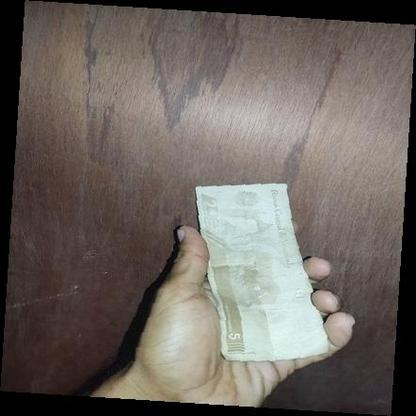five-back-vef: (194, 183, 330, 360)
